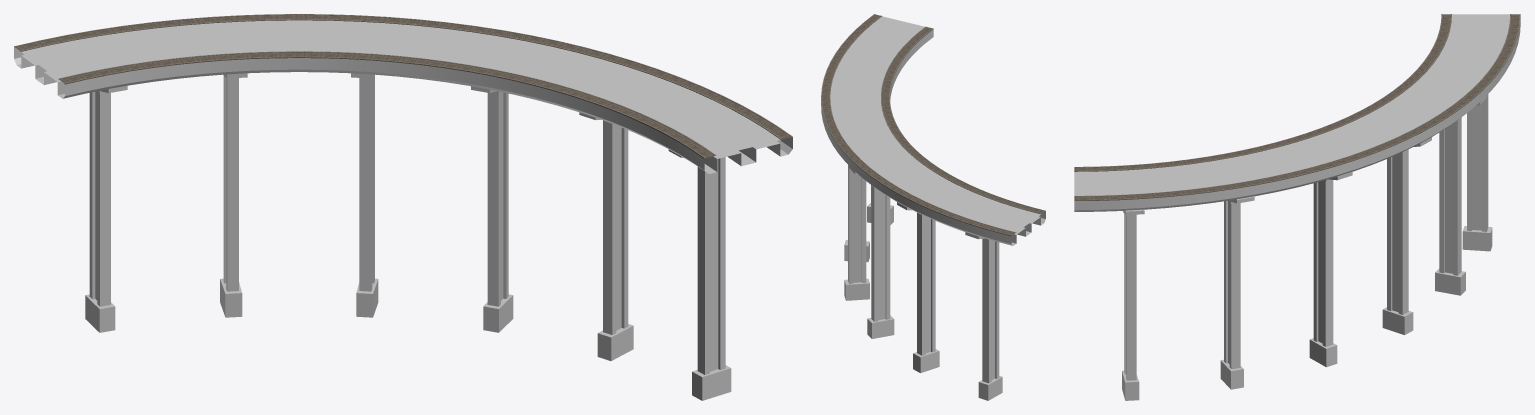
Rendered from Overpass3_High.fbx.
3 views of the same model, side by side, from view 1: azimuth 30°, elevation 25°; view 2: azimuth 150°, elevation 25°; view 3: azimuth 270°, elevation 25° (orthographic). The views are drawn at different scales.
Visible parts, largest first — view 1: polySurface863; view 2: polySurface863; view 3: polySurface863.
Boxes of the visible parts, x1=… form: polySurface863: x1=14, y1=14, x2=792, y2=400; polySurface863: x1=821, y1=14, x2=1045, y2=400; polySurface863: x1=1074, y1=14, x2=1520, y2=400.
Bounding box in the file's own units: 83.5 × 44.18 × 84.51.
